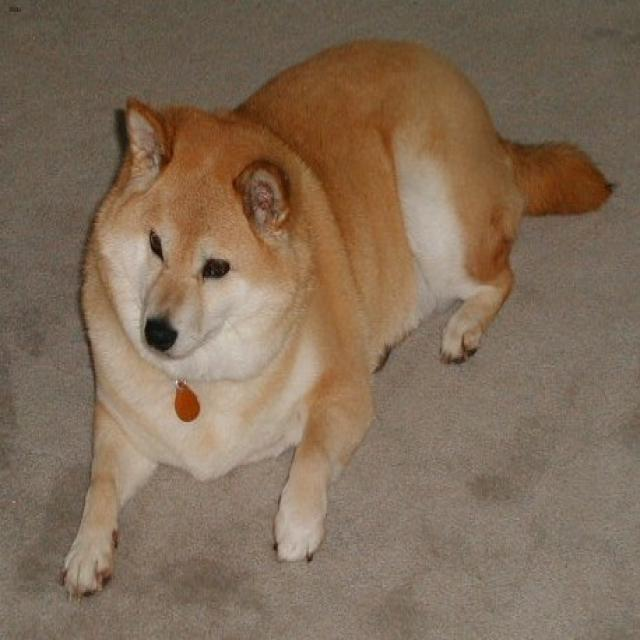dog-shiba_inu: (52, 29, 626, 618)
